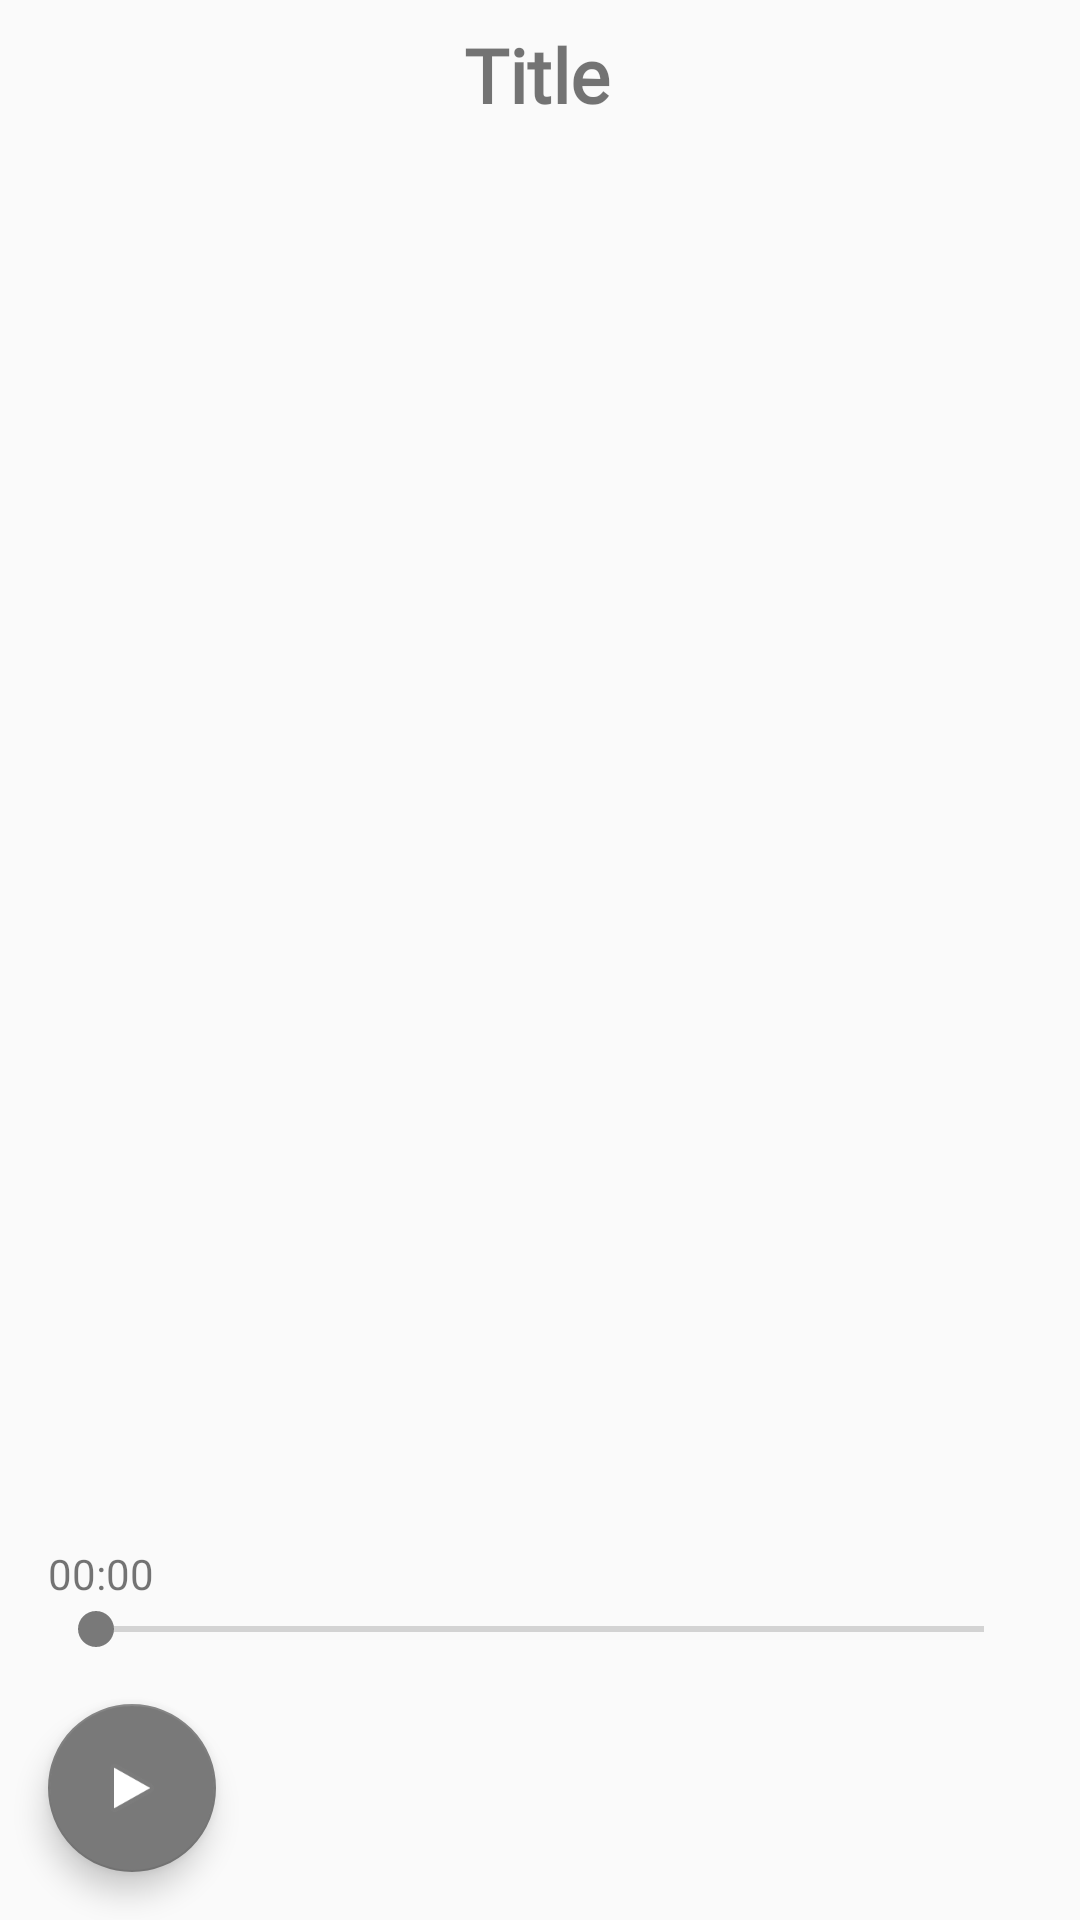

Icons on this 1080px×1920px Android screen, each with its box as (x1, y1, x2, y2):
play: (48, 1704, 216, 1872)
